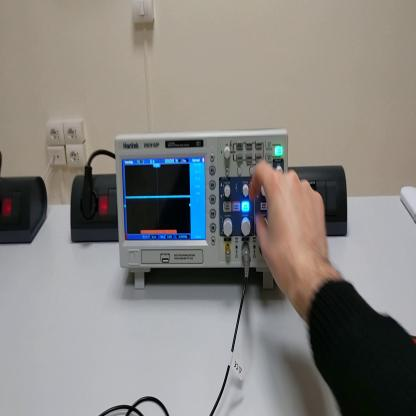hand: (250, 158, 331, 302)
oscilloscope: (114, 126, 290, 289)
socket: (70, 173, 120, 245), (2, 172, 49, 247)
